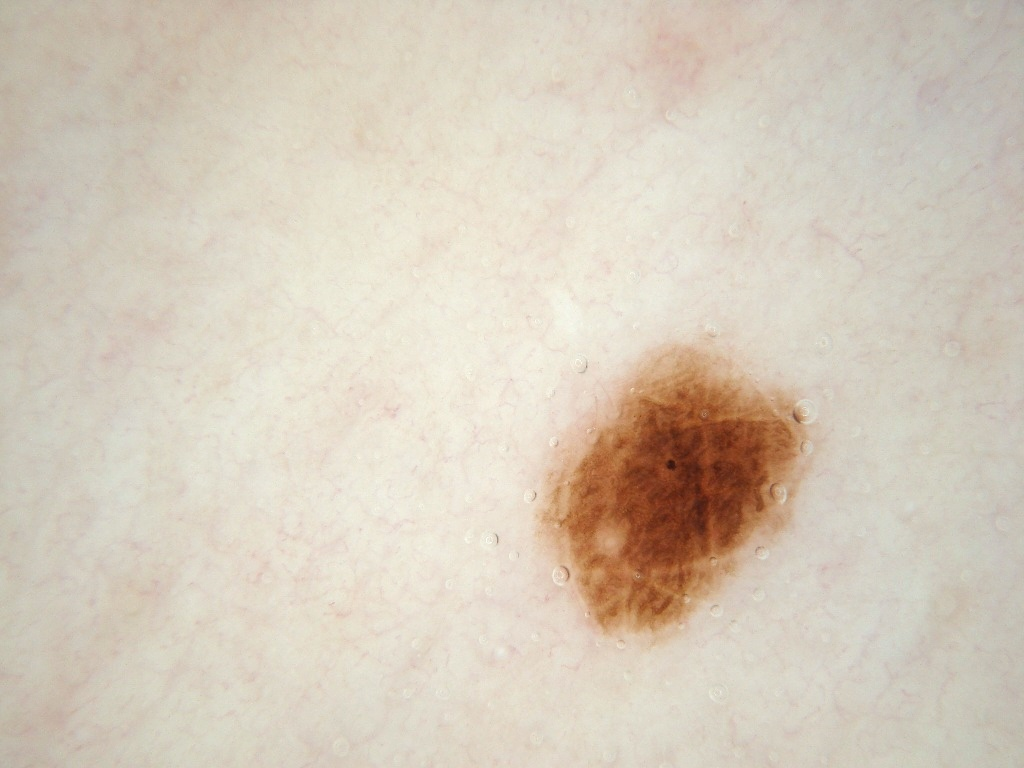Detected Lesion: (538, 344, 815, 653)
